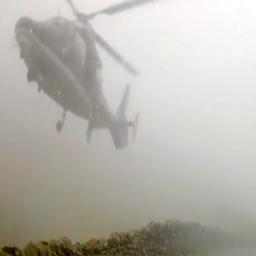helicopter: (16, 2, 147, 152)
